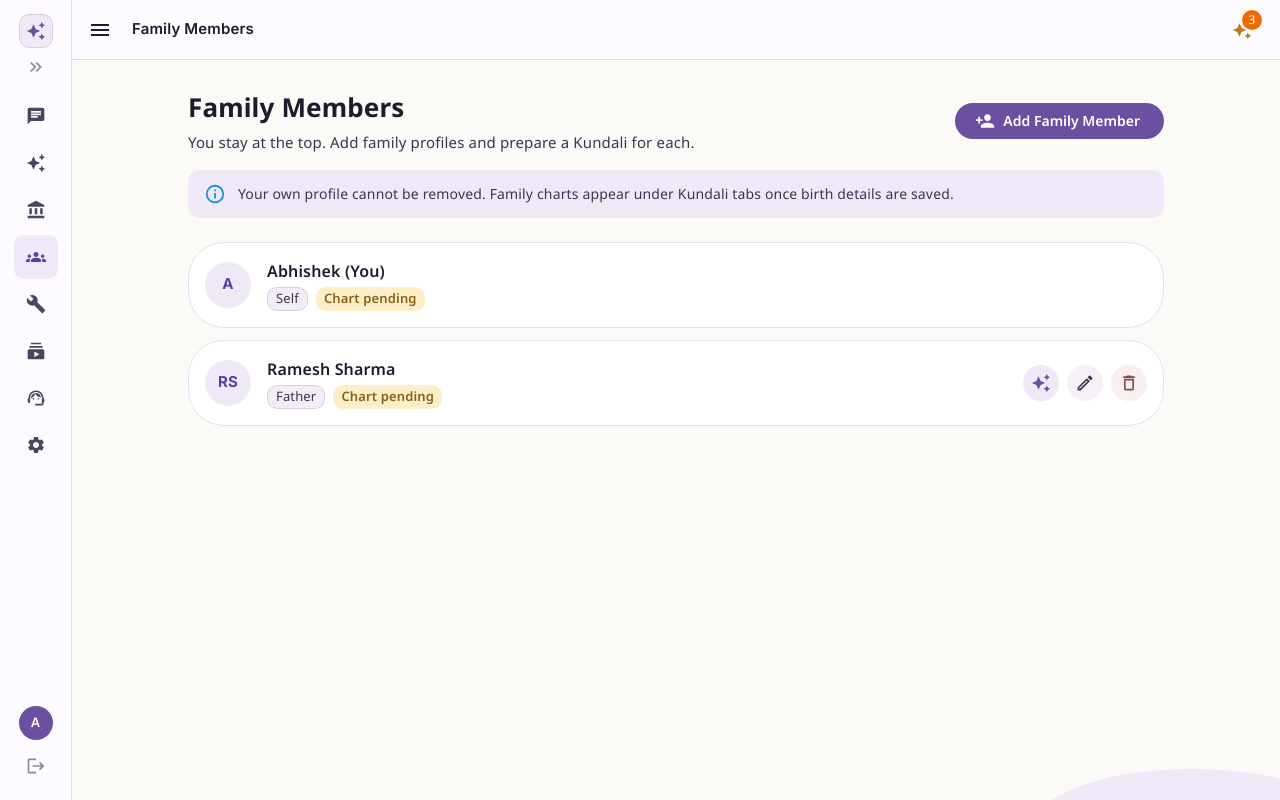
Test case: family page can start adding a member with a relation
The image size is (1280, 800).
Expected: the text "Abhishek (You)" is shown, 267,260 -> 385,282
Click the button "Add Family Member".
click(1060, 121)  # box 955,102 -> 1164,139
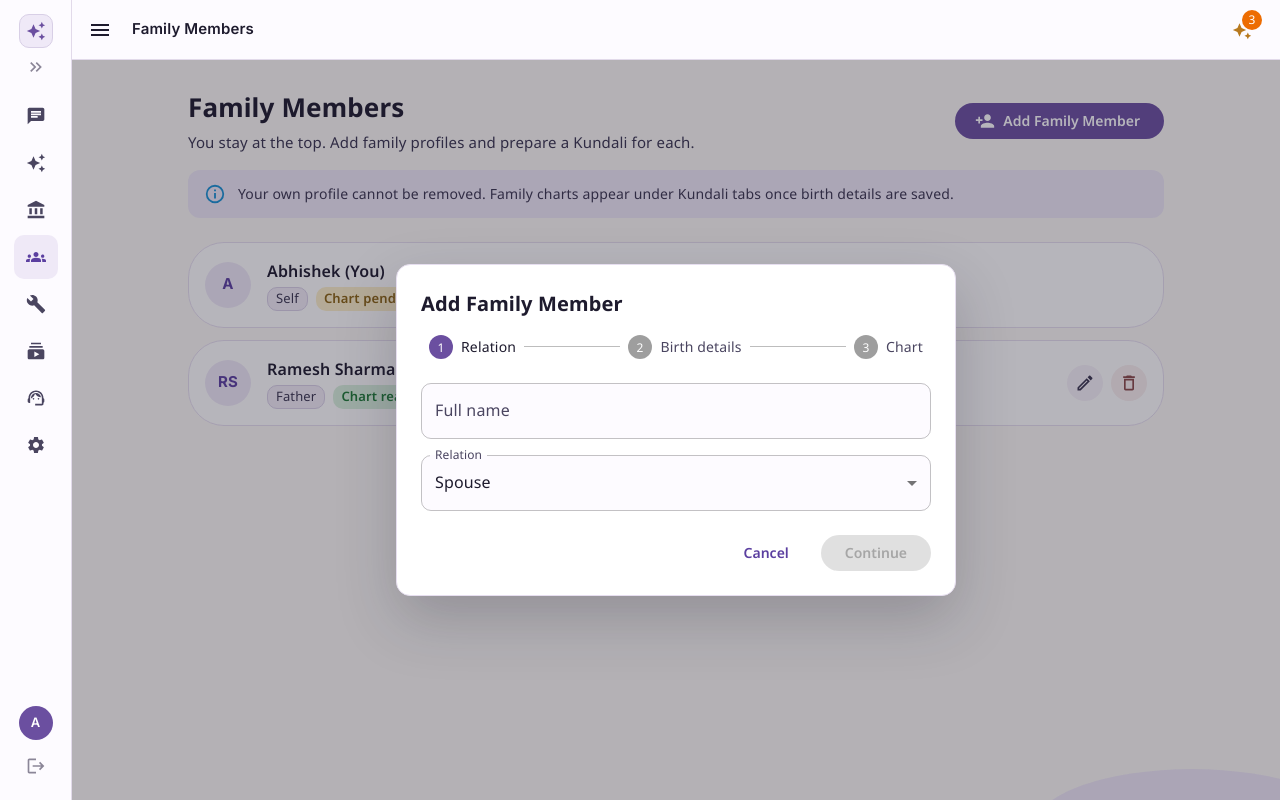
Expected: the dropdown named "relation" is shown, 435,471 -> 491,493
Expected: the field labelled "Full name" is shown, 421,383 -> 931,439
